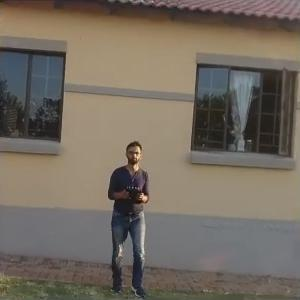follow: (103, 130, 156, 294)
